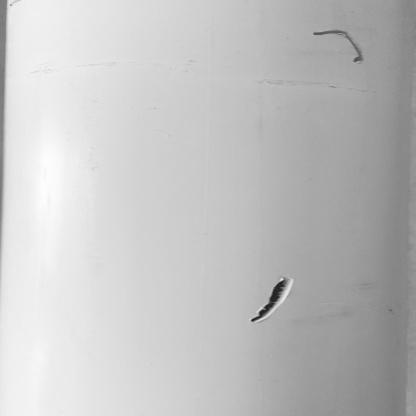fengxi: (306, 20, 373, 69)
kongdong: (246, 267, 290, 325)
